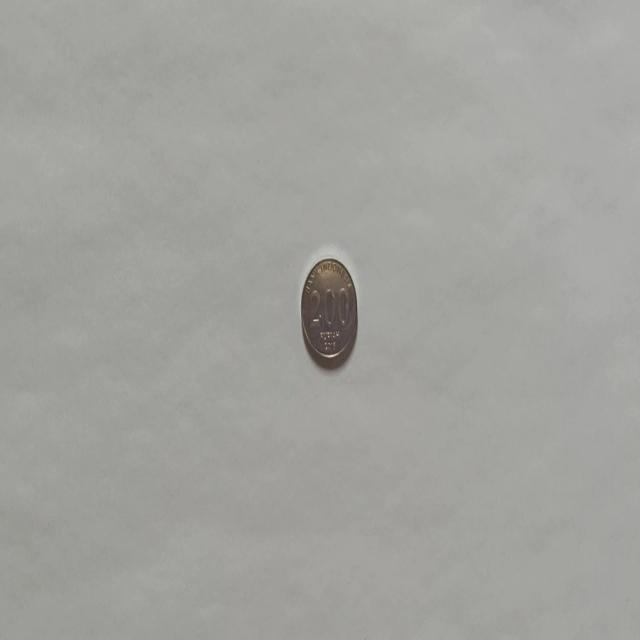dua ratus rupiah: (300, 255, 358, 366)
